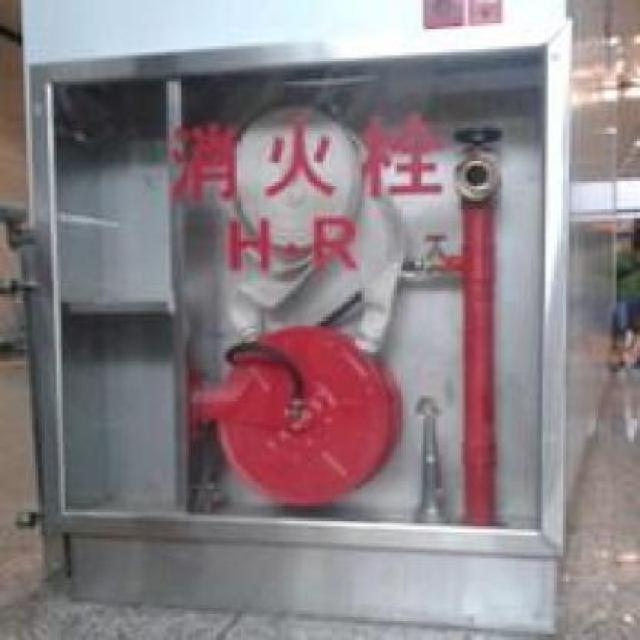firehydrant: (18, 2, 580, 639)
